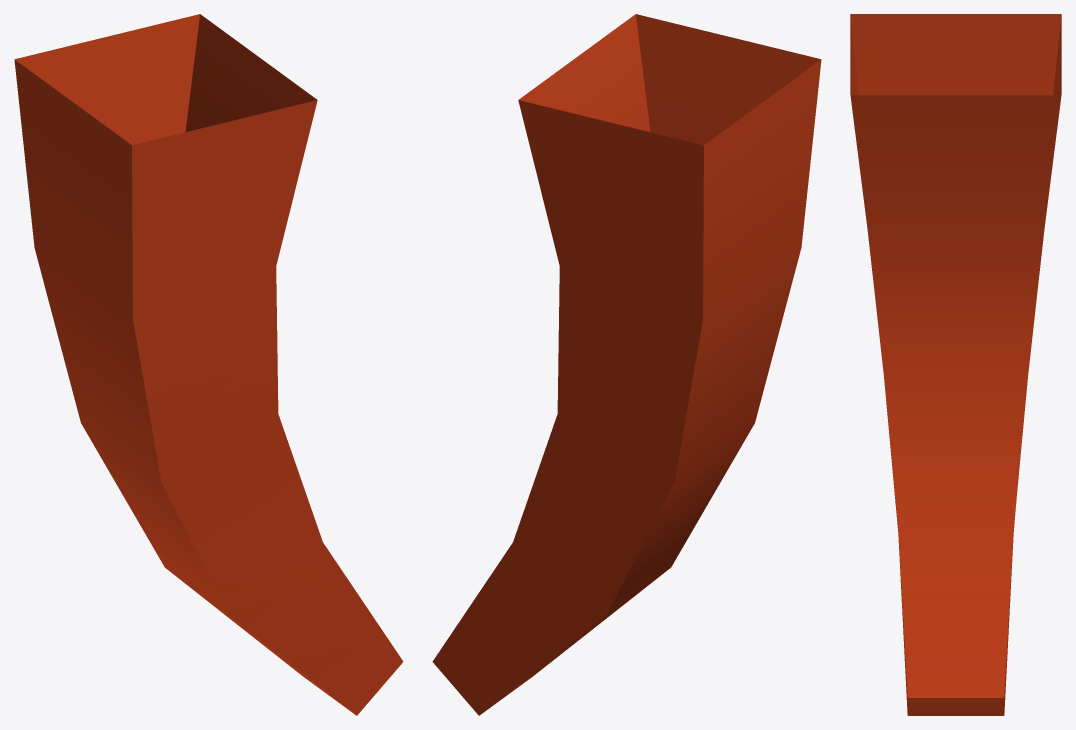
File: SR1_Trigger.fbx
3 renders of one model, left to right at view 1: azimuth 30°, elevation 25°; view 2: azimuth 150°, elevation 25°; view 3: azimuth 270°, elevation 25°, orthographic. The views are drawn at different scales.
Visible parts, largest first — view 1: SR1_Trigger; view 2: SR1_Trigger; view 3: SR1_Trigger.
Part boxes in pixels (left/top/right/bottom): SR1_Trigger: left=14, top=14, right=403, bottom=715; SR1_Trigger: left=432, top=14, right=821, bottom=715; SR1_Trigger: left=850, top=14, right=1061, bottom=715.
Bounding box in the file's own units: 1.88 × 3.89 × 1.26.
